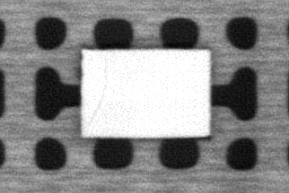DIE_CRACK: (86, 57, 107, 130)
